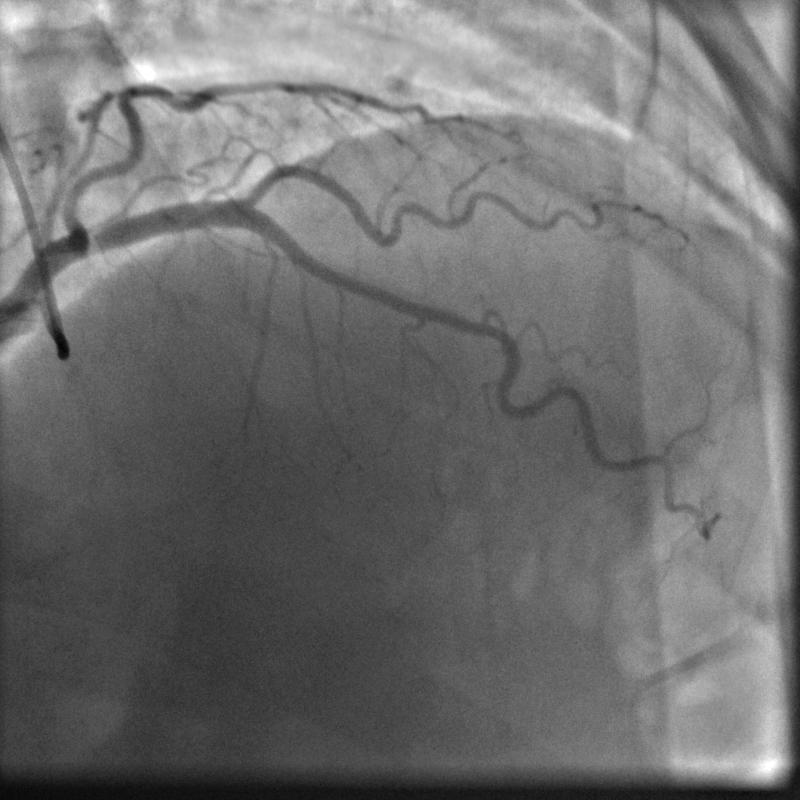Stenosis: (444, 310, 511, 351)
